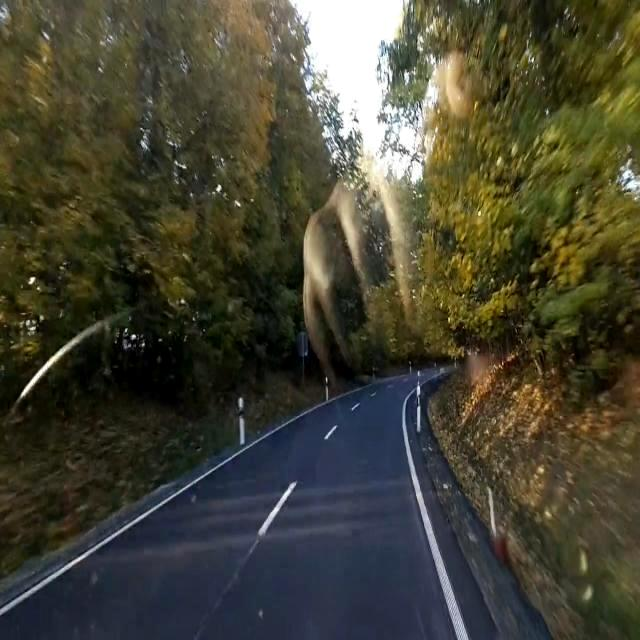lane: (0, 400, 331, 616), (402, 392, 469, 638), (258, 482, 296, 535)
road: (1, 377, 455, 639)
